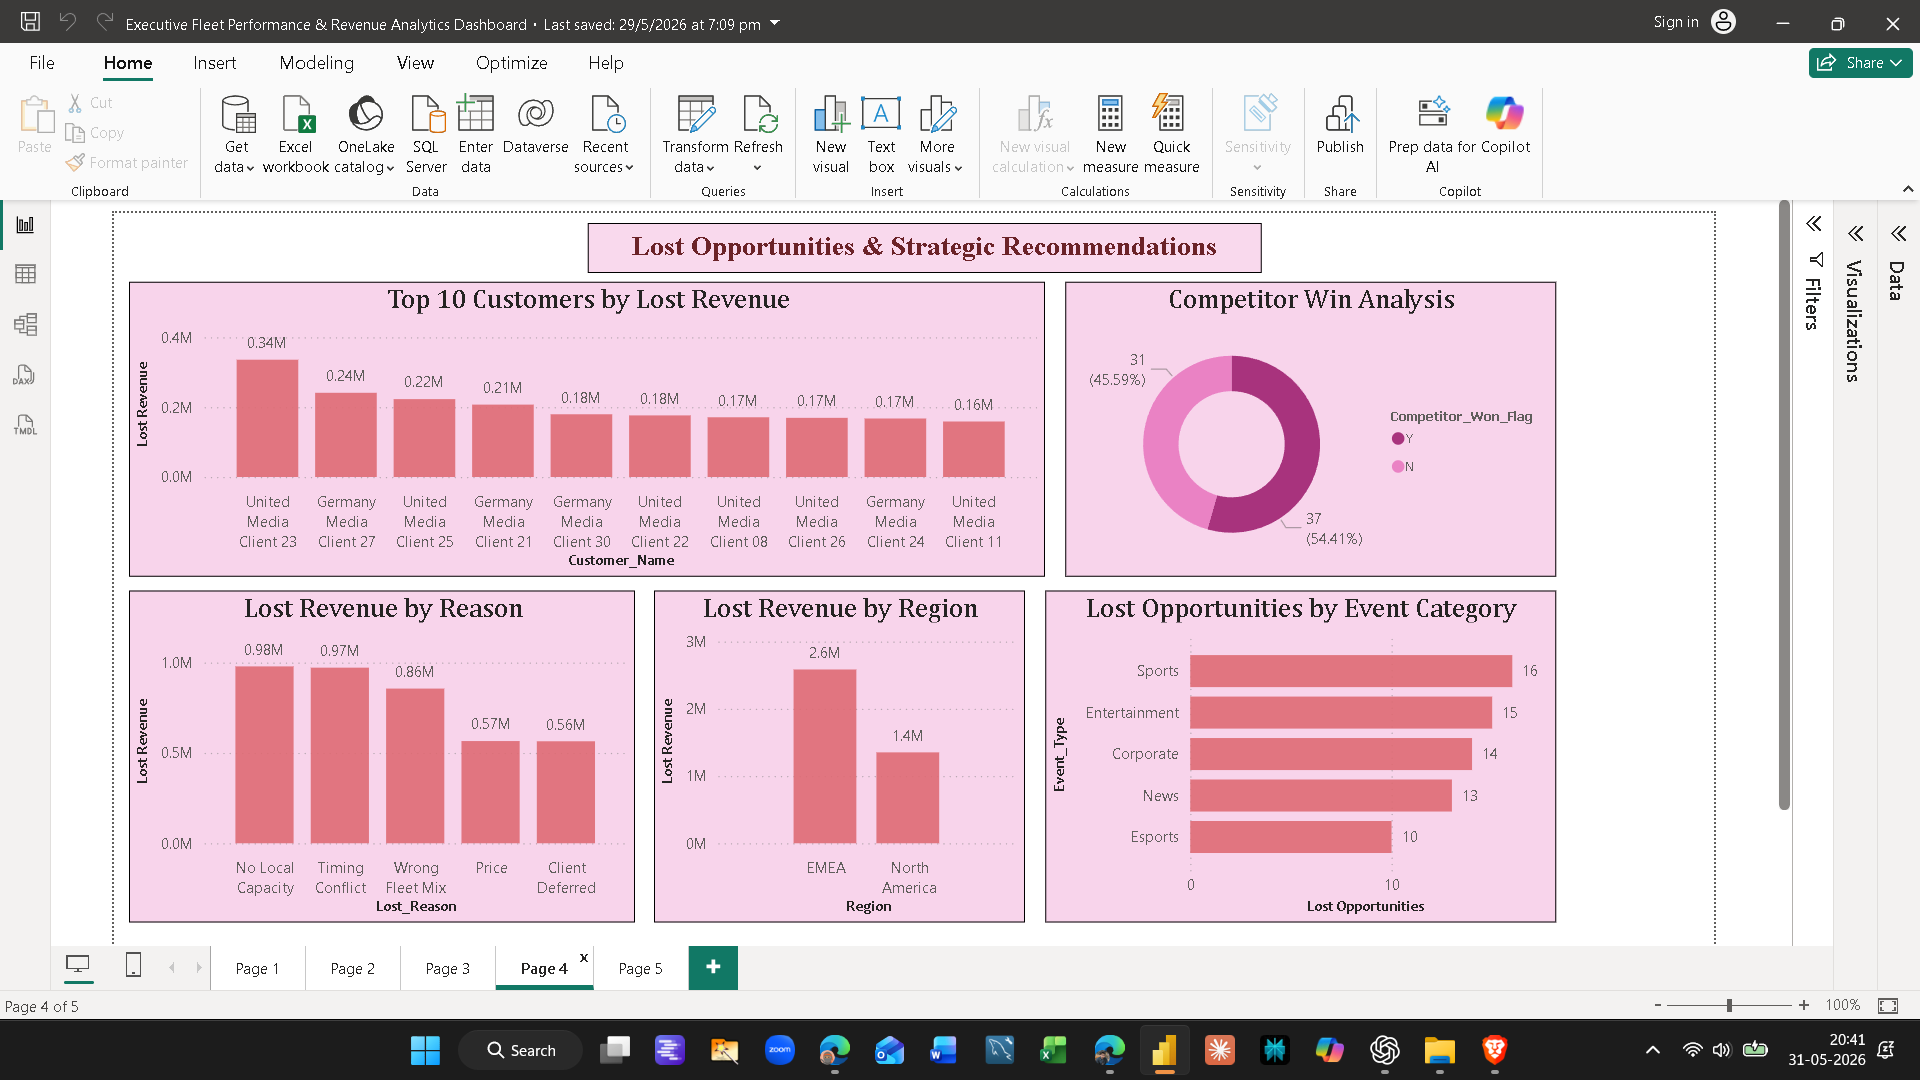

The page's visual inventory and layout, read from the dashboard file:
{"tool":"powerbi","page":{"name":"Page 4","canvas":[1280,720],"ordinal":3},"visuals":[{"type":"columnChart","title":"Lost Revenue by Reason","fields":{"Category":["fact_lost_opportunities.Lost_Reason"],"Y":["fact_truck_day.Lost Revenue"]},"box":[12,302,405,266],"z":0},{"type":"columnChart","fields":{"Category":["fact_lost_opportunities.Region"],"Y":["fact_truck_day.Lost Revenue"]},"box":[432,302,297,266],"z":1},{"type":"clusteredBarChart","title":"Lost Opportunities by Event Category","fields":{"Category":["fact_lost_opportunities.Event_Type"],"Y":["fact_truck_day.Lost Opportunities"]},"box":[745,302,409,266],"z":2},{"type":"columnChart","title":"Top 10 Customers by Lost Revenue","fields":{"Category":["fact_jobs.Customer_Name"],"Y":["fact_truck_day.Lost Revenue"]},"box":[12,55,733,236],"z":3},{"type":"donutChart","title":"Competitor Win Analysis","fields":{"Y":["fact_truck_day.Lost Opportunities"],"Category":["fact_lost_opportunities.Competitor_Won_Flag"]},"box":[761,55,393,236],"z":4},{"type":"textbox","box":[379,8,539,40],"z":5}]}

Visuals, with their boxes on the page's 1280x720 design canvas (x1, y1, x2, y2). These are canvas units, not pixel positions in the 1920x1080 screenshot, which may show the page scaled, cropped or inside an application window:
"Lost Revenue by Reason" columnChart: Rect(12, 302, 417, 568)
columnChart - fact_lost_opportunities.Region x fact_truck_day.Lost Revenue: Rect(432, 302, 729, 568)
"Lost Opportunities by Event Category" clusteredBarChart: Rect(745, 302, 1154, 568)
"Top 10 Customers by Lost Revenue" columnChart: Rect(12, 55, 745, 291)
"Competitor Win Analysis" donutChart: Rect(761, 55, 1154, 291)
textbox: Rect(379, 8, 918, 48)
